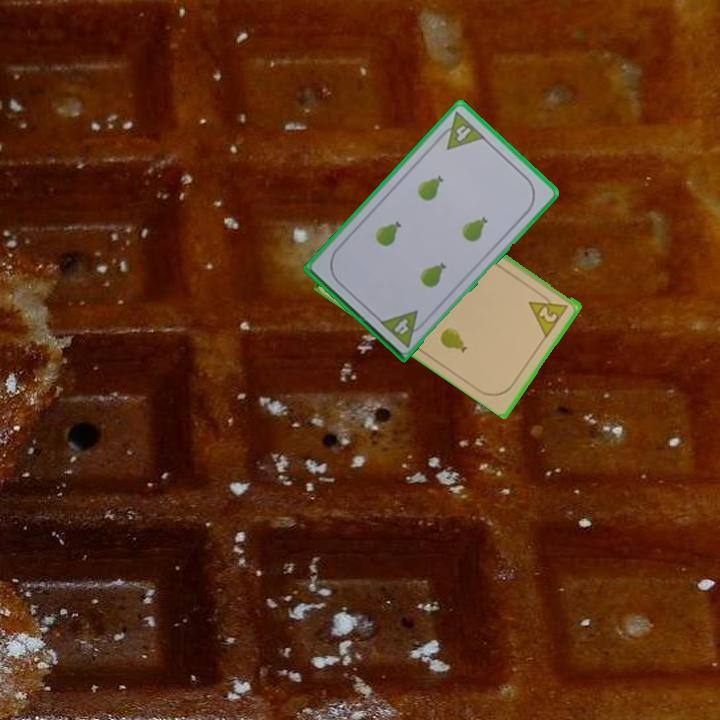2p: (525, 288, 572, 339)
4p: (433, 108, 488, 152), (376, 306, 429, 350)
